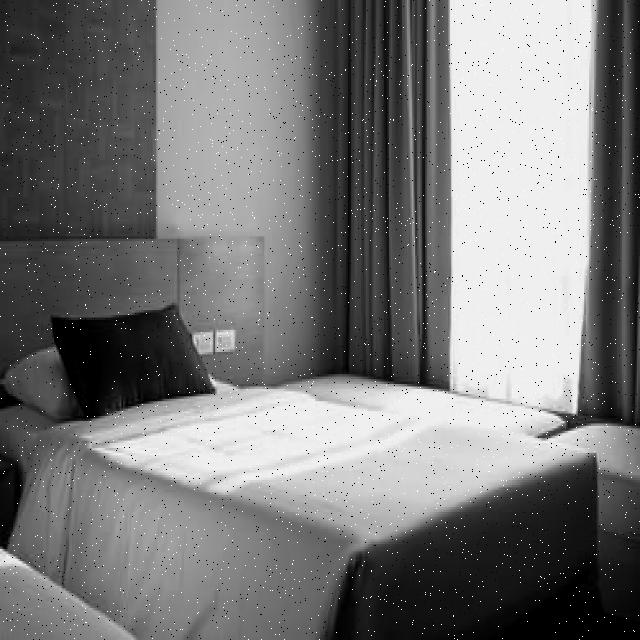bed: (2, 300, 594, 640)
